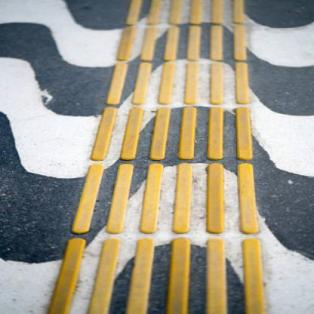Podoctatil: (46, 1, 265, 313)
